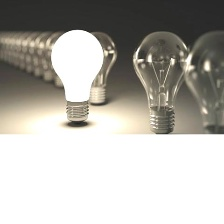light_bulb: (129, 26, 189, 134), (179, 27, 223, 156), (49, 28, 105, 126), (74, 27, 121, 109)
